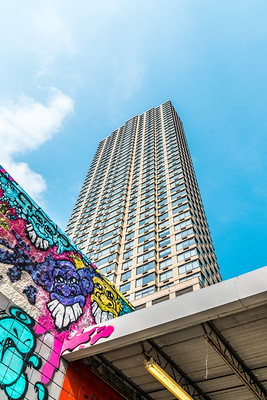low: (59, 95, 225, 293)
